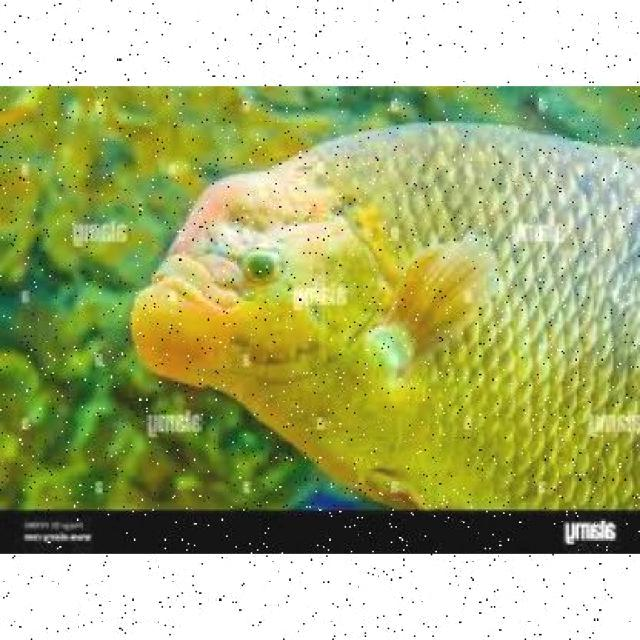gurame: (136, 120, 638, 498)
